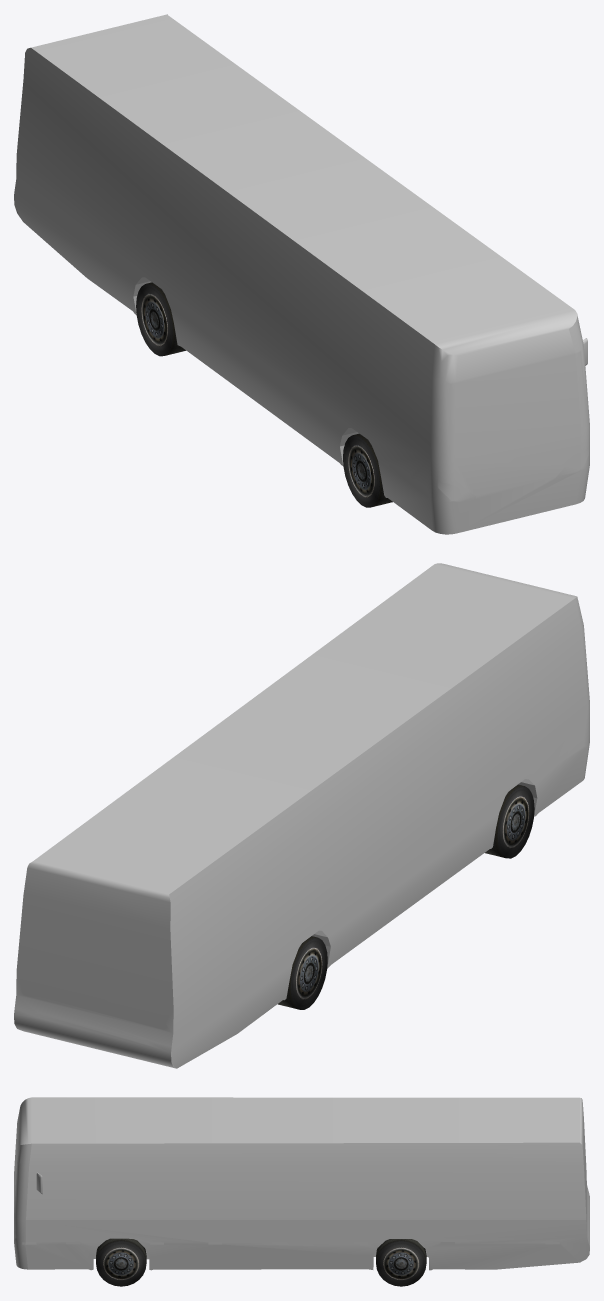
Rendered from BusMirim.fbx.
The picture shows the model from 3 angles, top to bottom: view 1: azimuth 30°, elevation 25°; view 2: azimuth 150°, elevation 25°; view 3: azimuth 270°, elevation 25°; orthographic projection. The views are drawn at different scales.
Parts seen in each view (by area): view 1: BUS, FR, BR, BUS ON; view 2: BUS, FR, BR; view 3: BUS, FL, BL, BUS ON.
Boxes of the visible parts, x1=… form: BUS: x1=14, y1=14, x2=589, y2=534; FR: x1=343, y1=433, x2=392, y2=507; BR: x1=136, y1=282, x2=185, y2=356; BUS ON: x1=25, y1=195, x2=589, y2=502; BUS: x1=14, y1=563, x2=589, y2=1068; FR: x1=485, y1=784, x2=534, y2=858; BR: x1=278, y1=936, x2=327, y2=1009; BUS: x1=14, y1=1097, x2=589, y2=1270; FL: x1=96, y1=1238, x2=146, y2=1286; BL: x1=376, y1=1239, x2=426, y2=1286; BUS ON: x1=14, y1=1183, x2=589, y2=1244.
Bounding box in the file's own units: 2.52 × 2.97 × 11.04.
